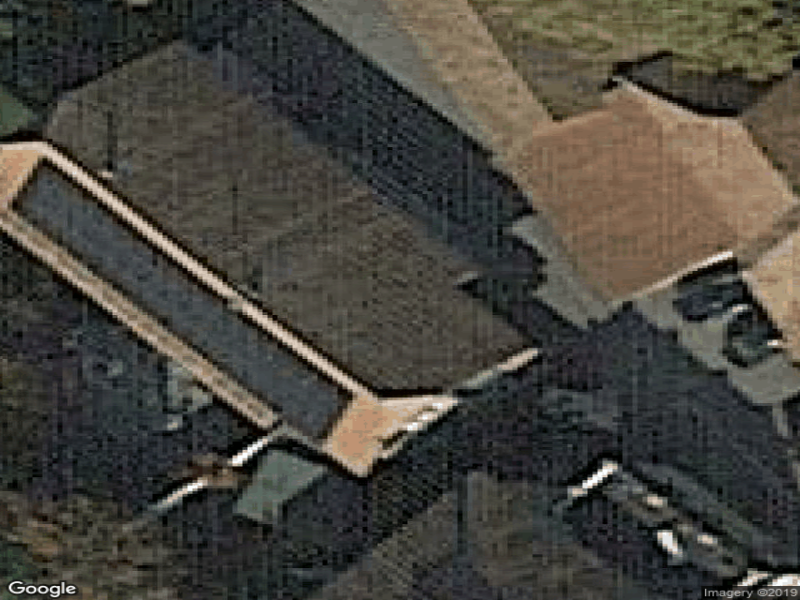pv: (12, 156, 350, 445)
